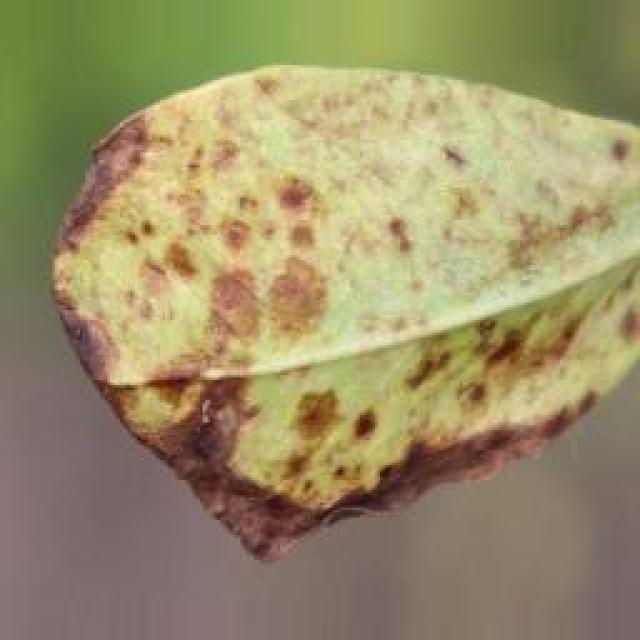Whitefly: (27, 9, 634, 581)
